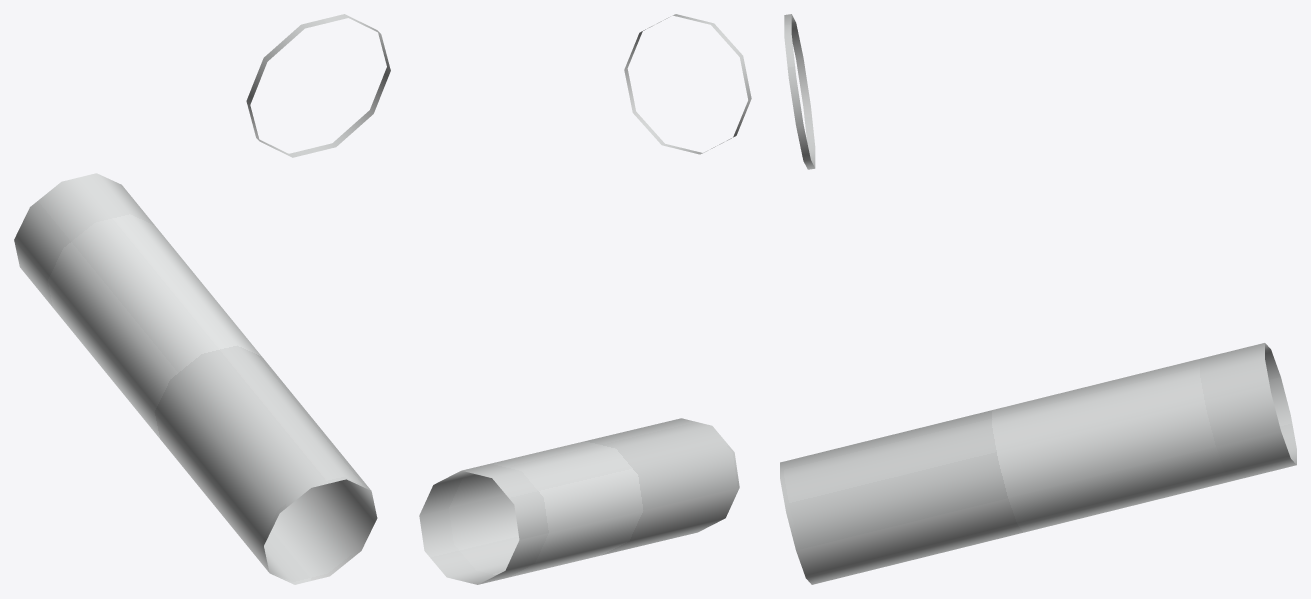
The model's file is trusssignalarm_sloped12_c6.obj.
3 views of the same model, side by side, from view 1: azimuth 30°, elevation 25°; view 2: azimuth 150°, elevation 25°; view 3: azimuth 270°, elevation 25° (orthographic). The views are drawn at different scales.
Parts seen in each view (by area): view 1: trusssignalarm_sloped12_c6; view 2: trusssignalarm_sloped12_c6; view 3: trusssignalarm_sloped12_c6.
Part boxes in pixels (x1=…): trusssignalarm_sloped12_c6: x1=14, y1=14, x2=390, y2=584; trusssignalarm_sloped12_c6: x1=419, y1=14, x2=751, y2=584; trusssignalarm_sloped12_c6: x1=780, y1=14, x2=1296, y2=584.
Bounding box in the file's own units: 0.325 × 1.26 × 1.07.
